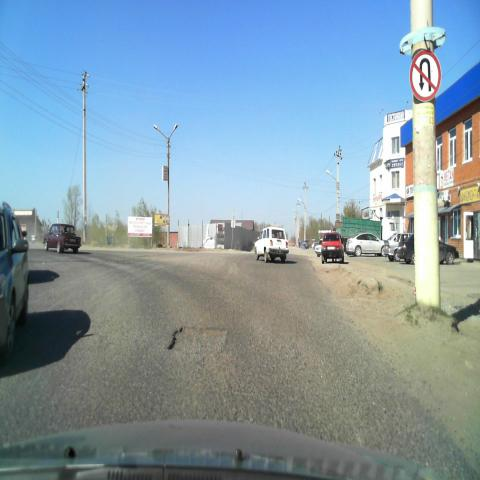3_19: (408, 50, 442, 103)
